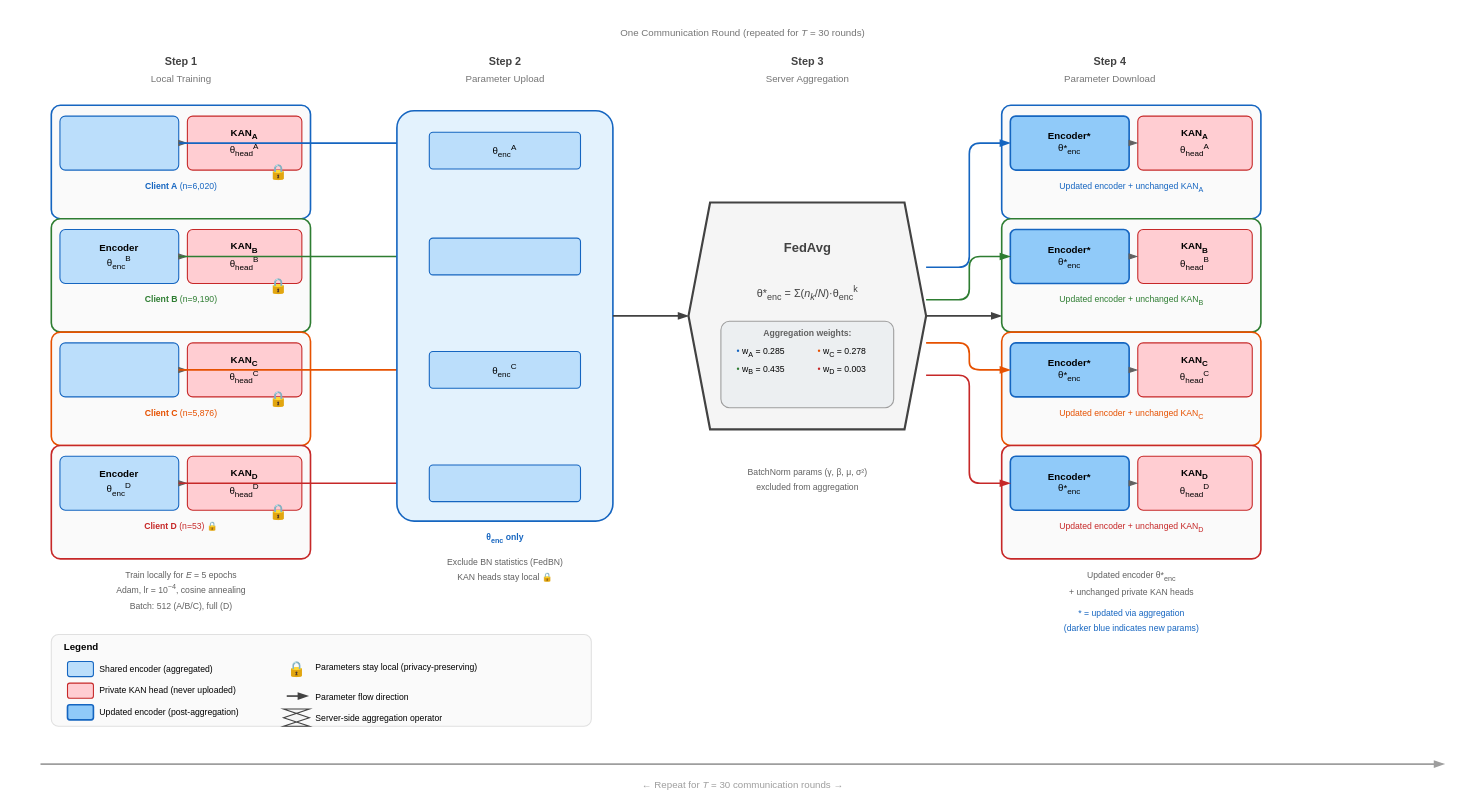
This 1484x810 diagram has some shape labels left out. The centre of each missing label's shape, as x and y in pixels:
Encoder θ enc A: the point at 119,142
Encoder θ enc C: the point at 119,369
θ enc B: the point at 504,256
θ enc D: the point at 504,483
